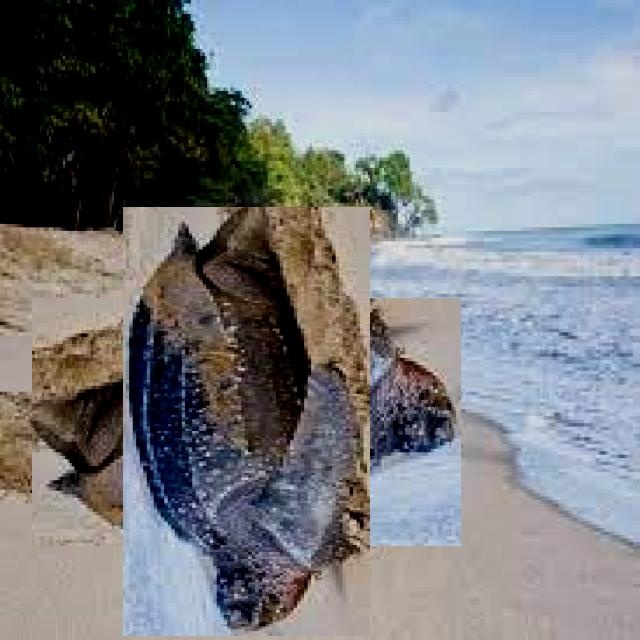Sea turtle: (77, 253, 416, 591)
